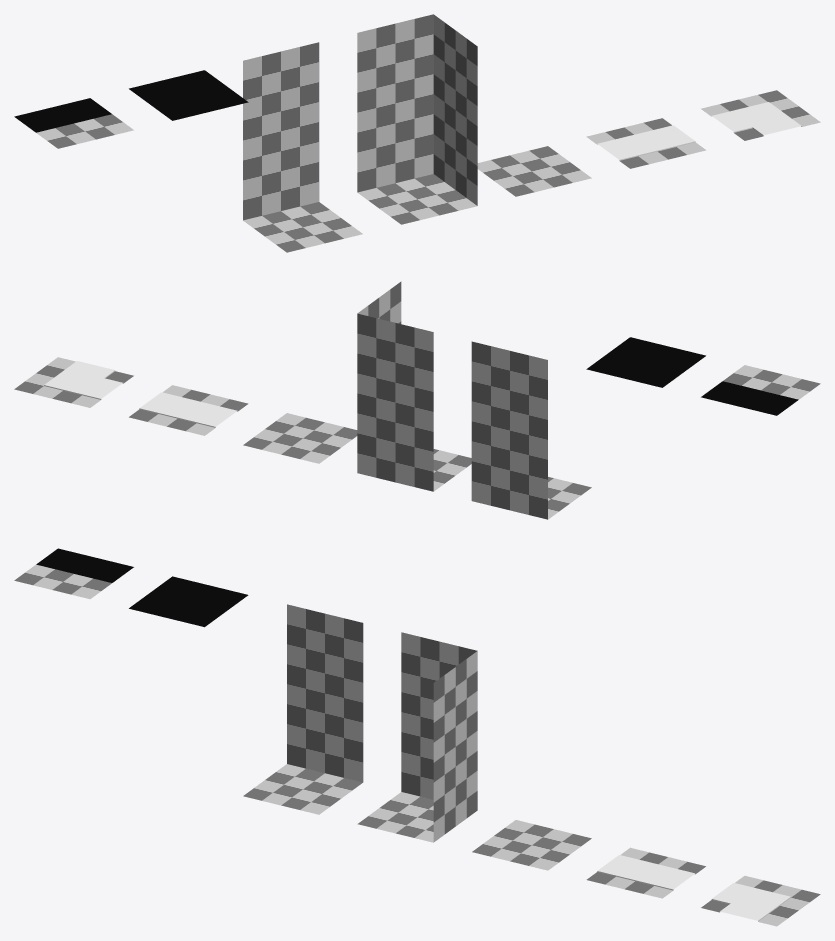
File: test_tileset.glb
The picture shows the model from 3 angles, top to bottom: view 1: azimuth 30°, elevation 25°; view 2: azimuth 150°, elevation 25°; view 3: azimuth 330°, elevation 25°; orthographic projection.
Parts seen in each view (by area): view 1: WallCorner, Wall, PathStraight, Ceiling2, Ceiling1, Ground, PathCorner; view 2: WallCorner, Wall, PathCorner, PathStraight, Ceiling2, Ceiling1, Ground; view 3: Wall, WallCorner, PathStraight, Ceiling1, Ground, Ceiling2, PathCorner.
Part boxes in pixels (x1,y1,x2,y2): WallCorner: [357, 14, 477, 224]; Wall: [243, 42, 362, 252]; PathStraight: [586, 118, 705, 168]; Ceiling2: [14, 98, 133, 148]; Ceiling1: [129, 70, 248, 120]; Ground: [477, 146, 591, 196]; PathCorner: [701, 90, 820, 140]; WallCorner: [357, 281, 471, 491]; Wall: [471, 341, 591, 519]; PathCorner: [14, 357, 133, 407]; PathStraight: [129, 385, 248, 435]; Ceiling2: [701, 365, 820, 415]; Ceiling1: [586, 337, 705, 387]; Ground: [243, 413, 357, 463]; Wall: [243, 604, 363, 814]; WallCorner: [357, 632, 477, 842]; PathStraight: [586, 847, 705, 898]; Ceiling1: [129, 576, 248, 627]; Ground: [472, 820, 591, 870]; Ceiling2: [14, 548, 133, 598]; PathCorner: [701, 876, 820, 926].
Size of the model in its own units: 20 by 4 by 2.
3 materials, 1 textured.
